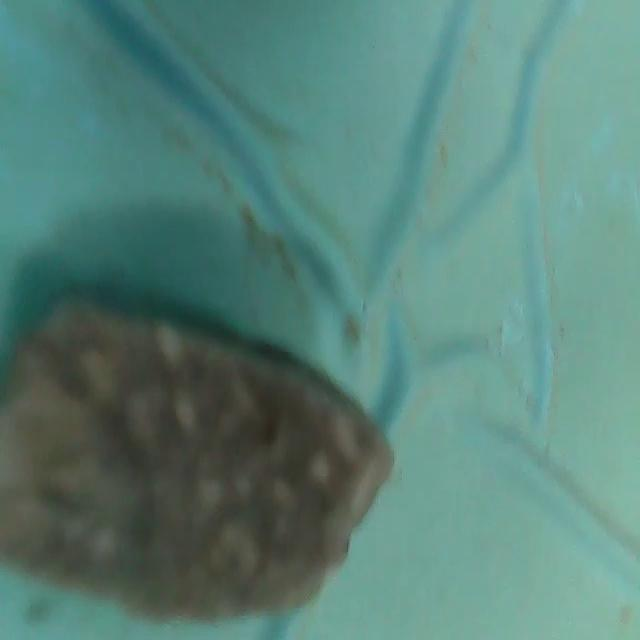rock: (1, 289, 409, 633)
